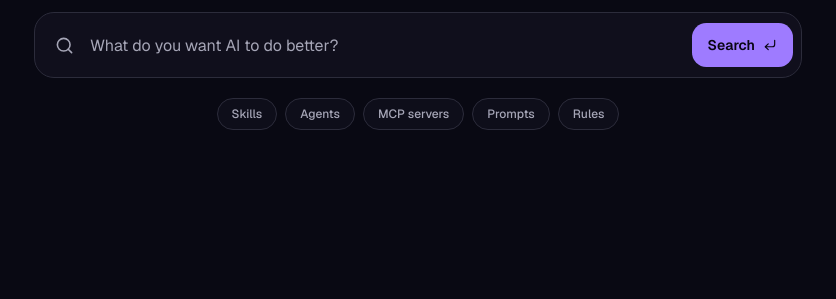
ConsoleSearch › survives localStorage holding something that is not a list
Click the dropdown at (383, 45), box [74,13,692,77]
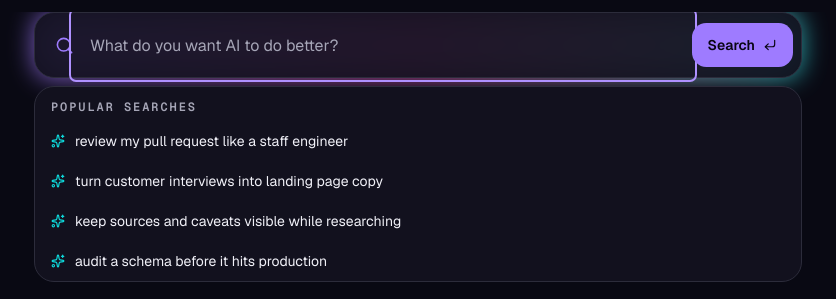
Result: the list "Popular searches" is shown
